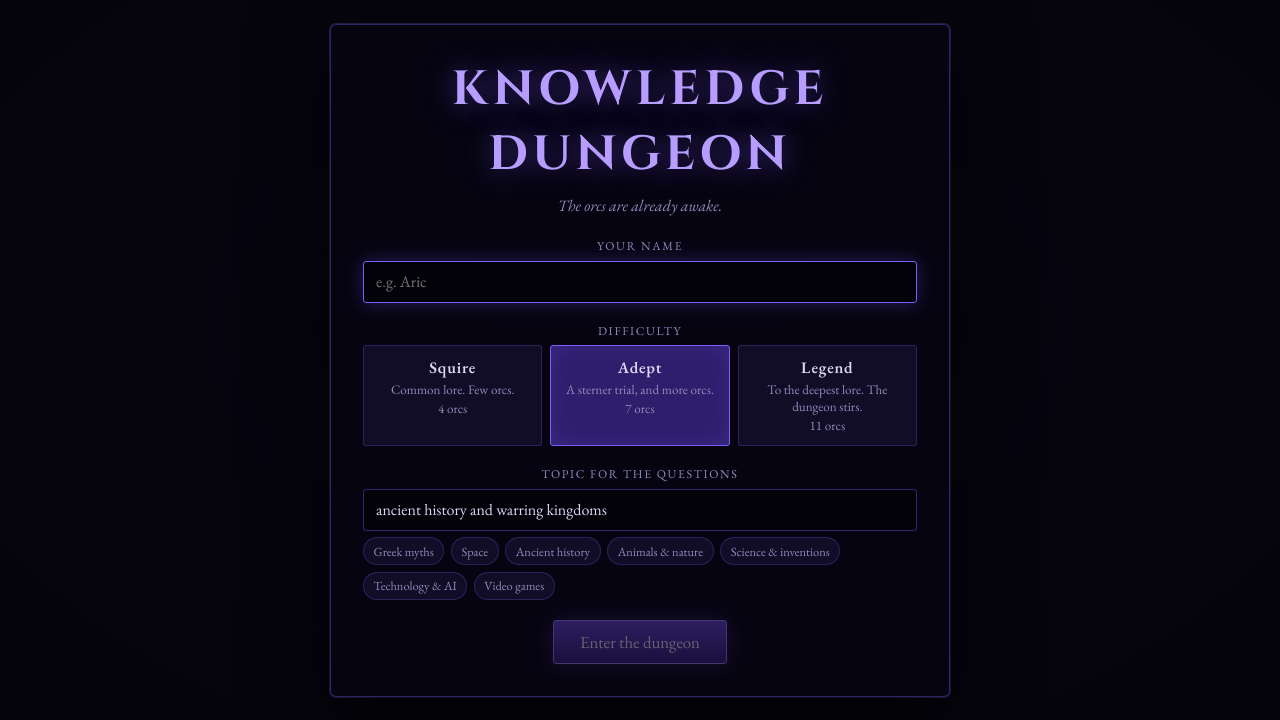
SetupScreen › fills the topic from a preset chip
The image size is (1280, 720).
Click the button with test id "topic-preset-space" at (475, 551), box [451,537,499,565]
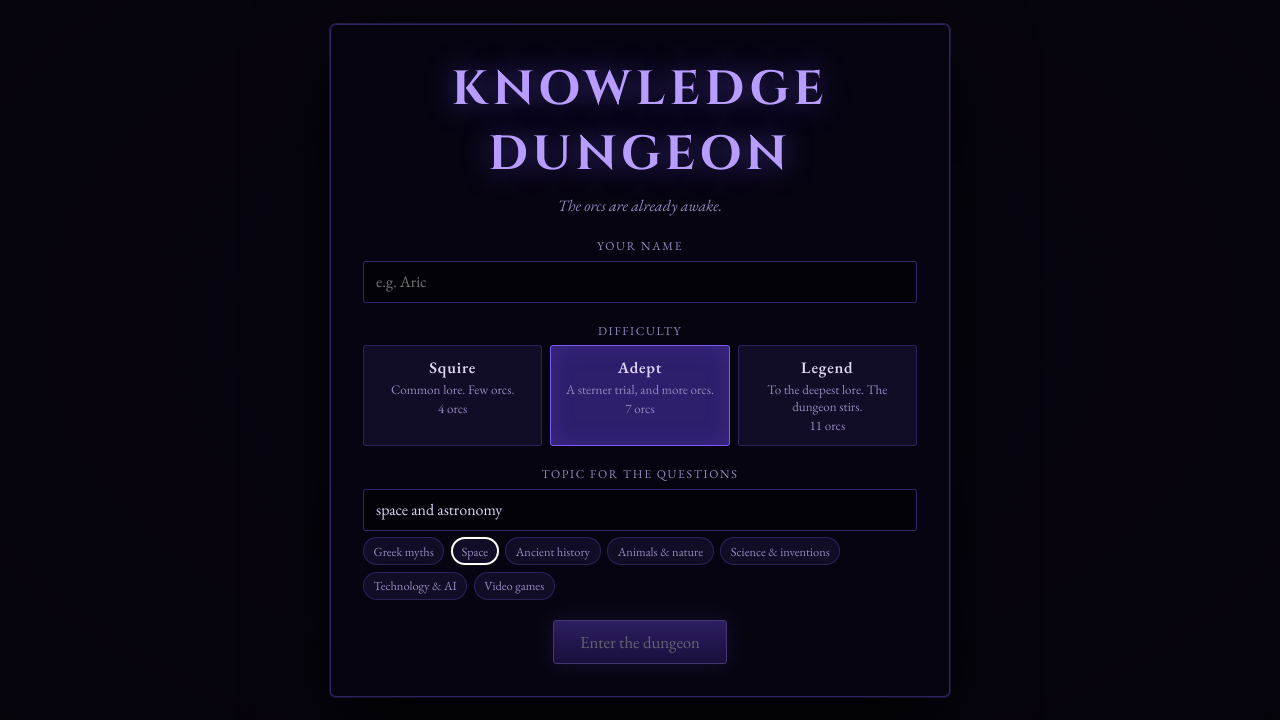
Expected: the field with test id "topic-input" holds "space and astronomy", [363,489,917,531]
